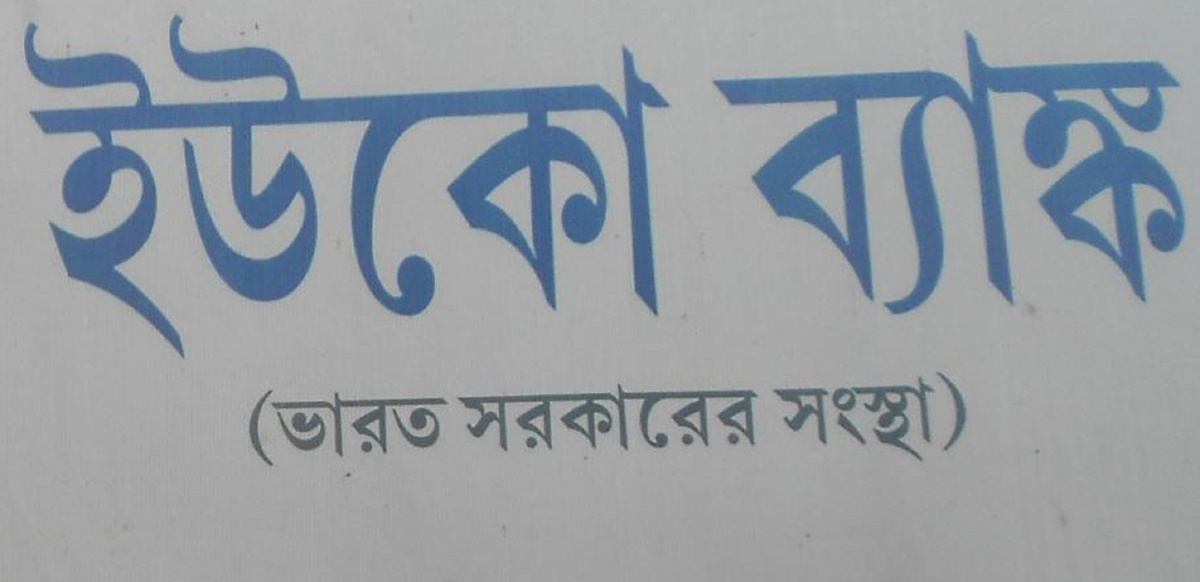text: (33, 10, 48, 368), (49, 10, 64, 368), (65, 10, 80, 368), (81, 10, 96, 368), (97, 10, 112, 368), (113, 10, 128, 368), (129, 10, 144, 368), (145, 10, 160, 368), (161, 10, 176, 368), (177, 10, 192, 368), (193, 10, 208, 368), (209, 10, 224, 368), (225, 10, 240, 368), (241, 10, 256, 368), (257, 10, 272, 368), (273, 10, 288, 368), (289, 10, 304, 368), (305, 10, 320, 368), (321, 10, 336, 368), (337, 10, 352, 368), (353, 10, 368, 368), (369, 10, 384, 368), (385, 10, 400, 368), (401, 10, 416, 368), (417, 10, 432, 368), (433, 10, 448, 368), (449, 10, 464, 368), (465, 10, 480, 368), (481, 10, 496, 368), (497, 10, 512, 368), (513, 10, 528, 368), (529, 10, 544, 368), (545, 10, 560, 368), (561, 10, 576, 368), (577, 10, 592, 368), (593, 10, 608, 368), (609, 10, 624, 368), (625, 10, 640, 368), (641, 10, 656, 368), (657, 10, 672, 368), (19, 10, 32, 368), (705, 23, 720, 319), (721, 23, 736, 319), (737, 23, 752, 319), (753, 23, 768, 319), (769, 23, 784, 319), (785, 23, 800, 319), (801, 23, 816, 319), (817, 23, 832, 319), (833, 23, 848, 319), (849, 23, 864, 319), (865, 23, 880, 319), (881, 23, 896, 319), (897, 23, 912, 319), (913, 23, 928, 319), (929, 23, 944, 319), (945, 23, 960, 319), (961, 23, 976, 319), (977, 23, 992, 319), (993, 23, 1008, 319), (1009, 23, 1024, 319), (1025, 23, 1040, 319), (1041, 23, 1056, 319), (1057, 23, 1072, 319), (1073, 23, 1088, 319), (1089, 23, 1104, 319), (1105, 23, 1120, 319), (1121, 23, 1136, 319), (1137, 23, 1152, 319), (1153, 23, 1168, 319), (1169, 23, 1184, 319), (673, 10, 684, 368), (1185, 23, 1193, 319), (785, 367, 800, 465), (801, 367, 816, 465), (817, 367, 832, 465), (833, 367, 848, 465), (849, 367, 864, 465), (865, 367, 880, 465), (881, 367, 896, 465), (897, 367, 912, 465), (913, 367, 928, 465), (929, 367, 944, 465), (945, 367, 960, 465), (257, 389, 272, 468), (273, 389, 288, 468), (289, 389, 304, 468), (305, 389, 320, 468), (321, 389, 336, 468), (337, 389, 352, 468), (353, 389, 368, 468), (369, 389, 384, 468), (385, 389, 400, 468), (401, 389, 416, 468), (417, 389, 432, 468), (433, 389, 448, 468), (772, 367, 784, 465), (465, 378, 480, 453), (481, 378, 496, 453), (497, 378, 512, 453), (513, 378, 528, 453), (529, 378, 544, 453), (545, 378, 560, 453), (561, 378, 576, 453), (577, 378, 592, 453), (593, 378, 608, 453), (609, 378, 624, 453), (625, 378, 640, 453), (641, 378, 656, 453), (657, 378, 672, 453), (673, 378, 688, 453), (689, 378, 704, 453), (705, 378, 720, 453), (721, 378, 736, 453), (737, 378, 752, 453), (961, 367, 971, 465), (248, 389, 256, 468), (753, 378, 760, 453), (458, 378, 464, 453), (449, 389, 451, 468)
